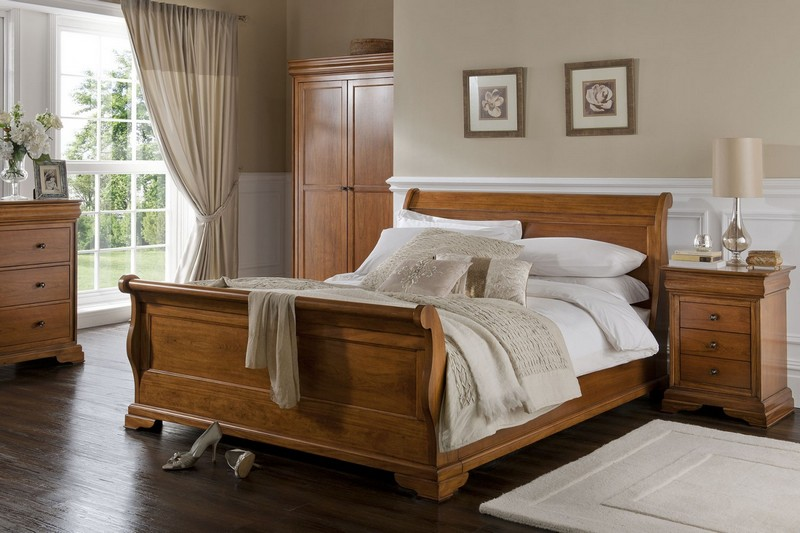bed: (120, 184, 667, 493)
lamp: (712, 132, 763, 272)
stool: (667, 258, 795, 438), (3, 198, 86, 382)
